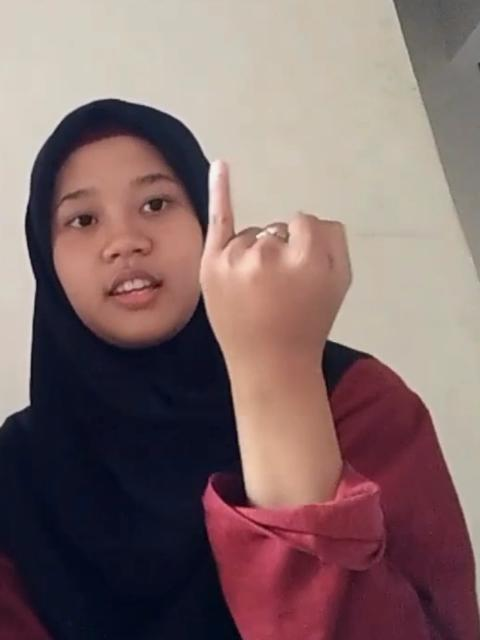J: (197, 162, 359, 348)
